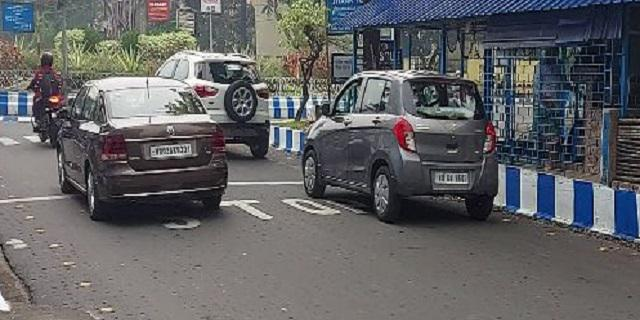Car: (299, 66, 503, 219), (67, 71, 236, 229), (157, 48, 289, 160)
Motorbike: (28, 51, 79, 147)
